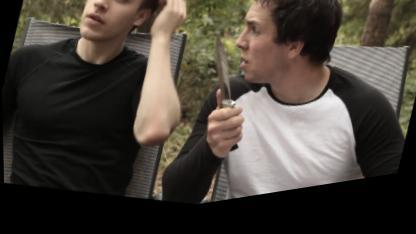knife: (187, 24, 267, 145)
